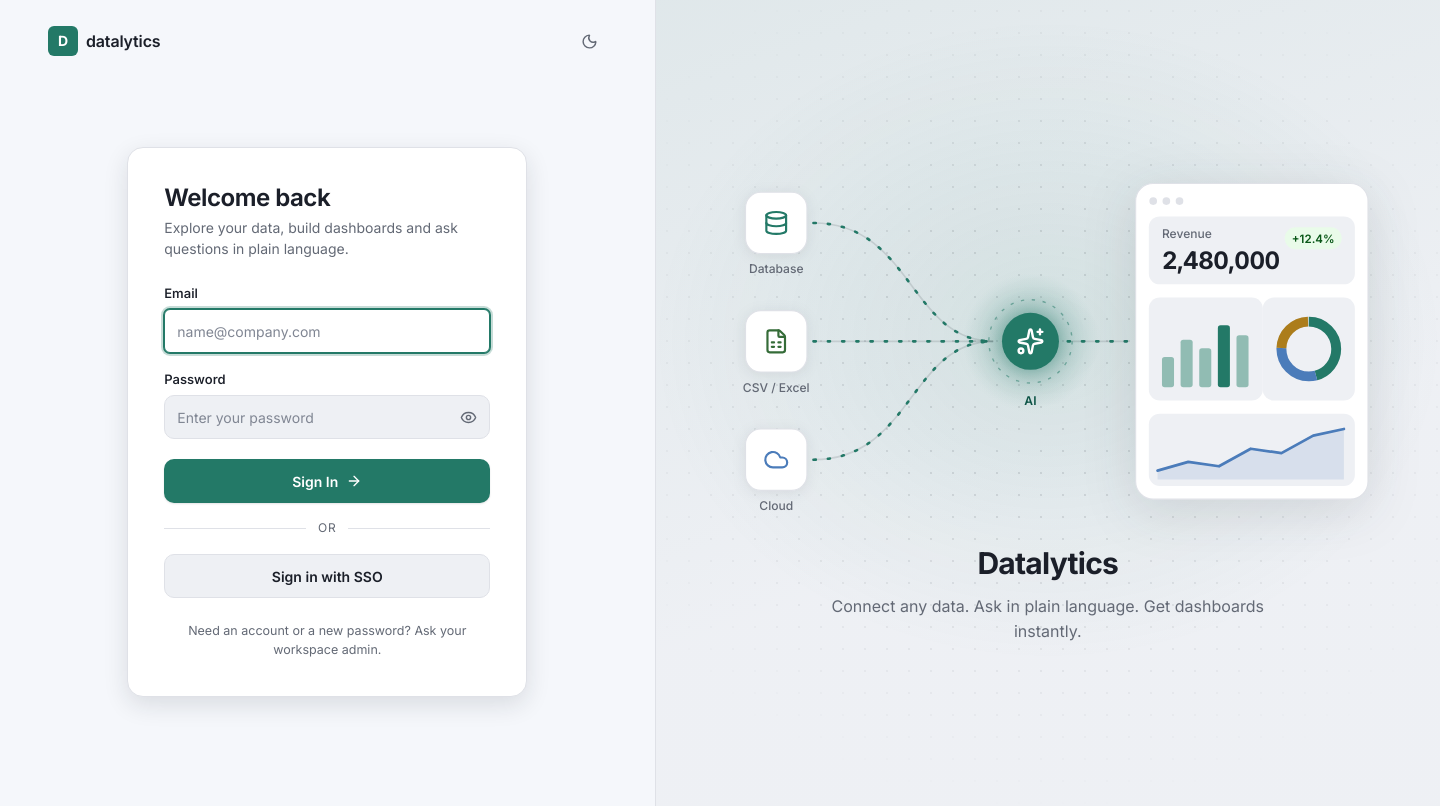
Test: App: login comes first › shows Home only after the server accepts the password
The image size is (1440, 806).
Step 1. Type "alice@x.com" into the field labelled "Email" → (327, 331), box [164,309,490,353]
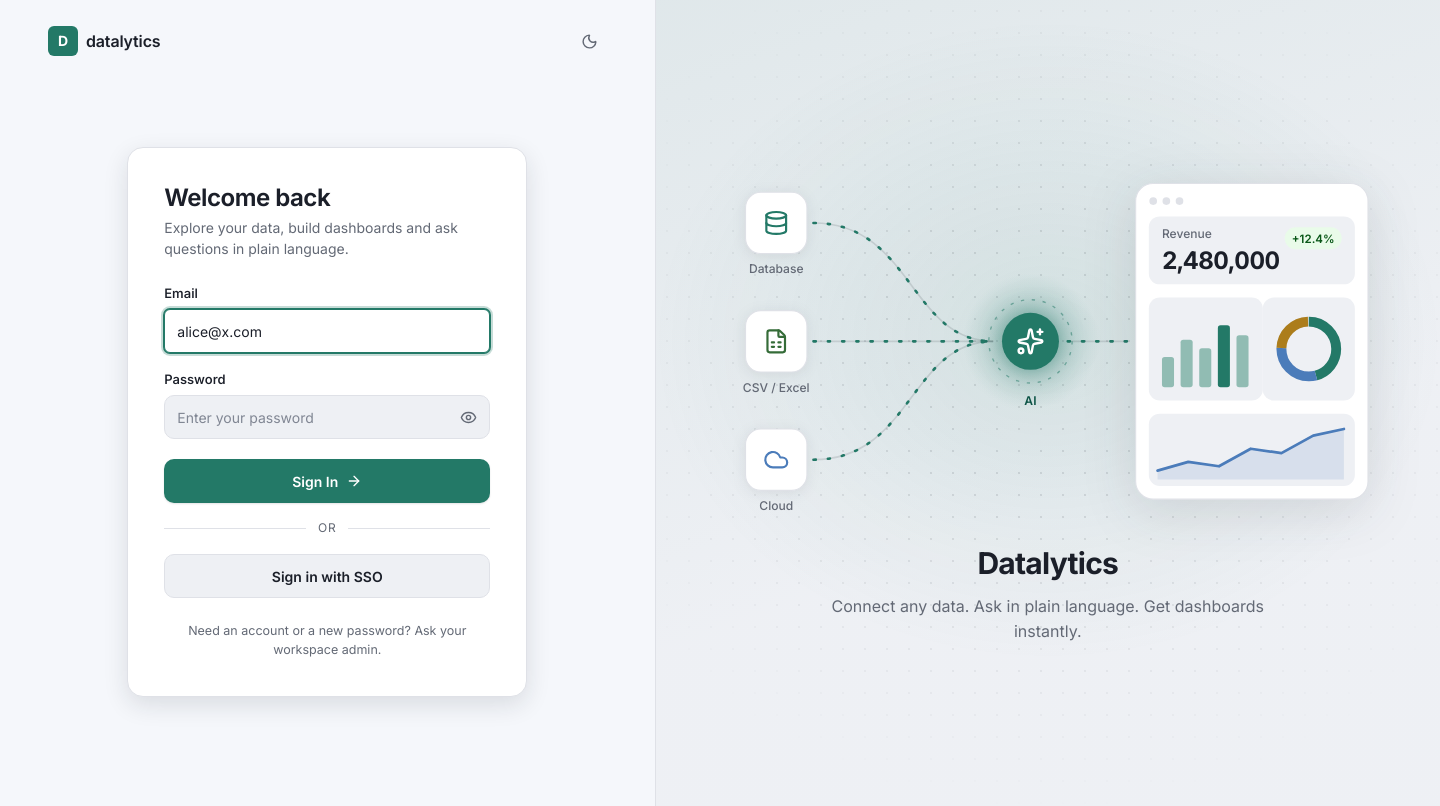
Step 2. Type "alice-pass" into the password field labelled "Password" → (327, 418), box [164,396,490,440]
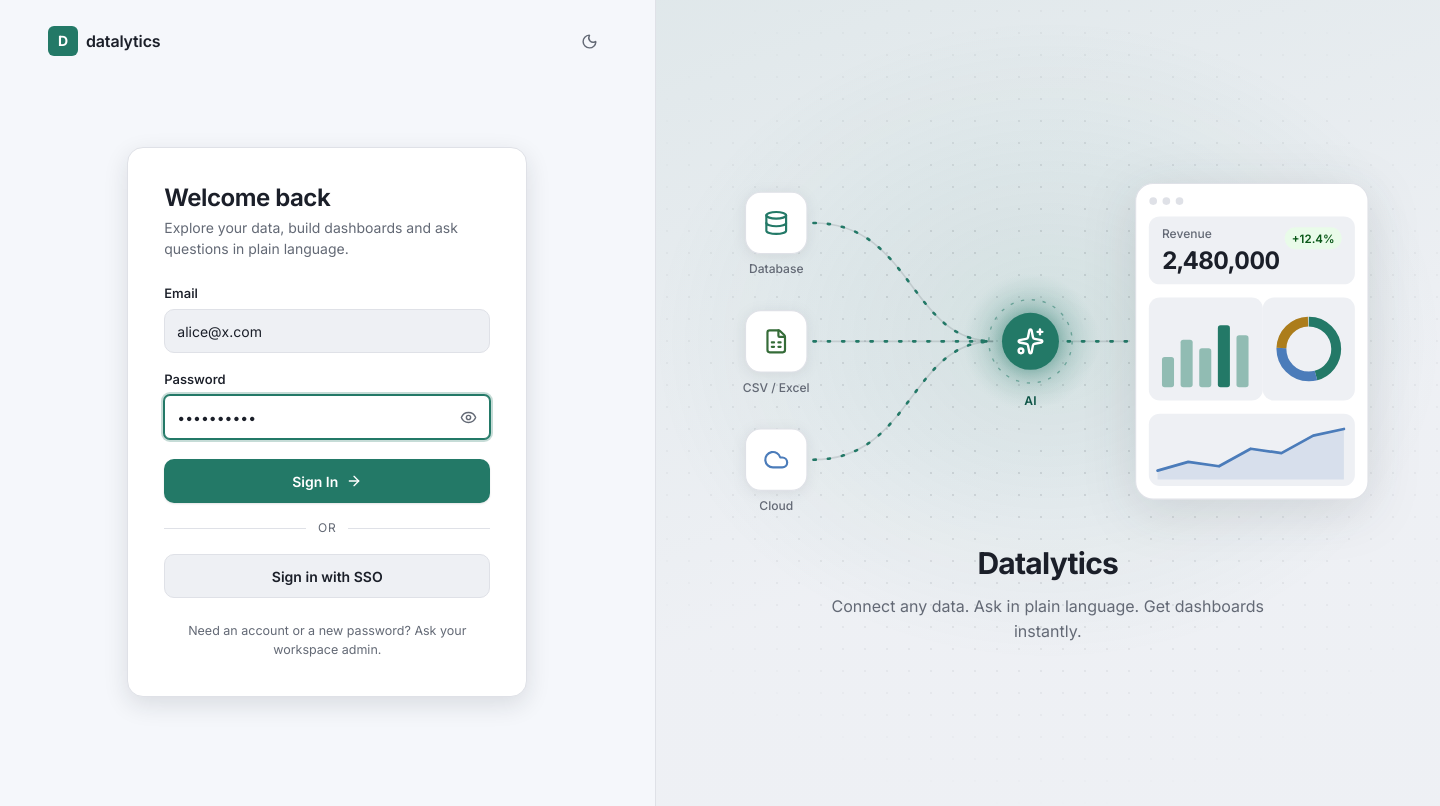
Step 3. Click the button "Sign In" → click(327, 482), box [164,460,490,504]
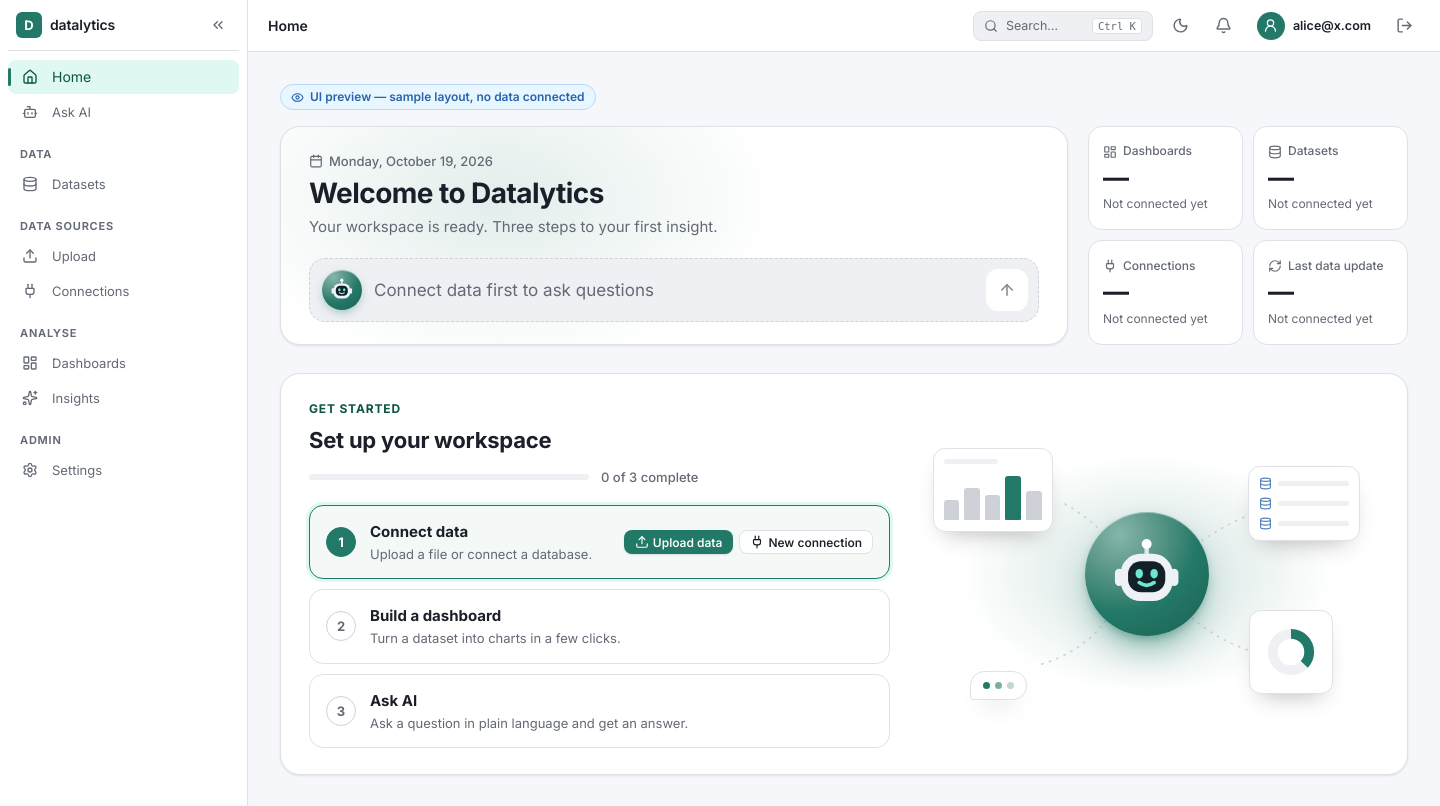
Expected: the heading "Welcome to Datalytics" is shown, [309,176,604,210]
Expected: the header shows "alice@x.com", [1293,18,1371,33]
